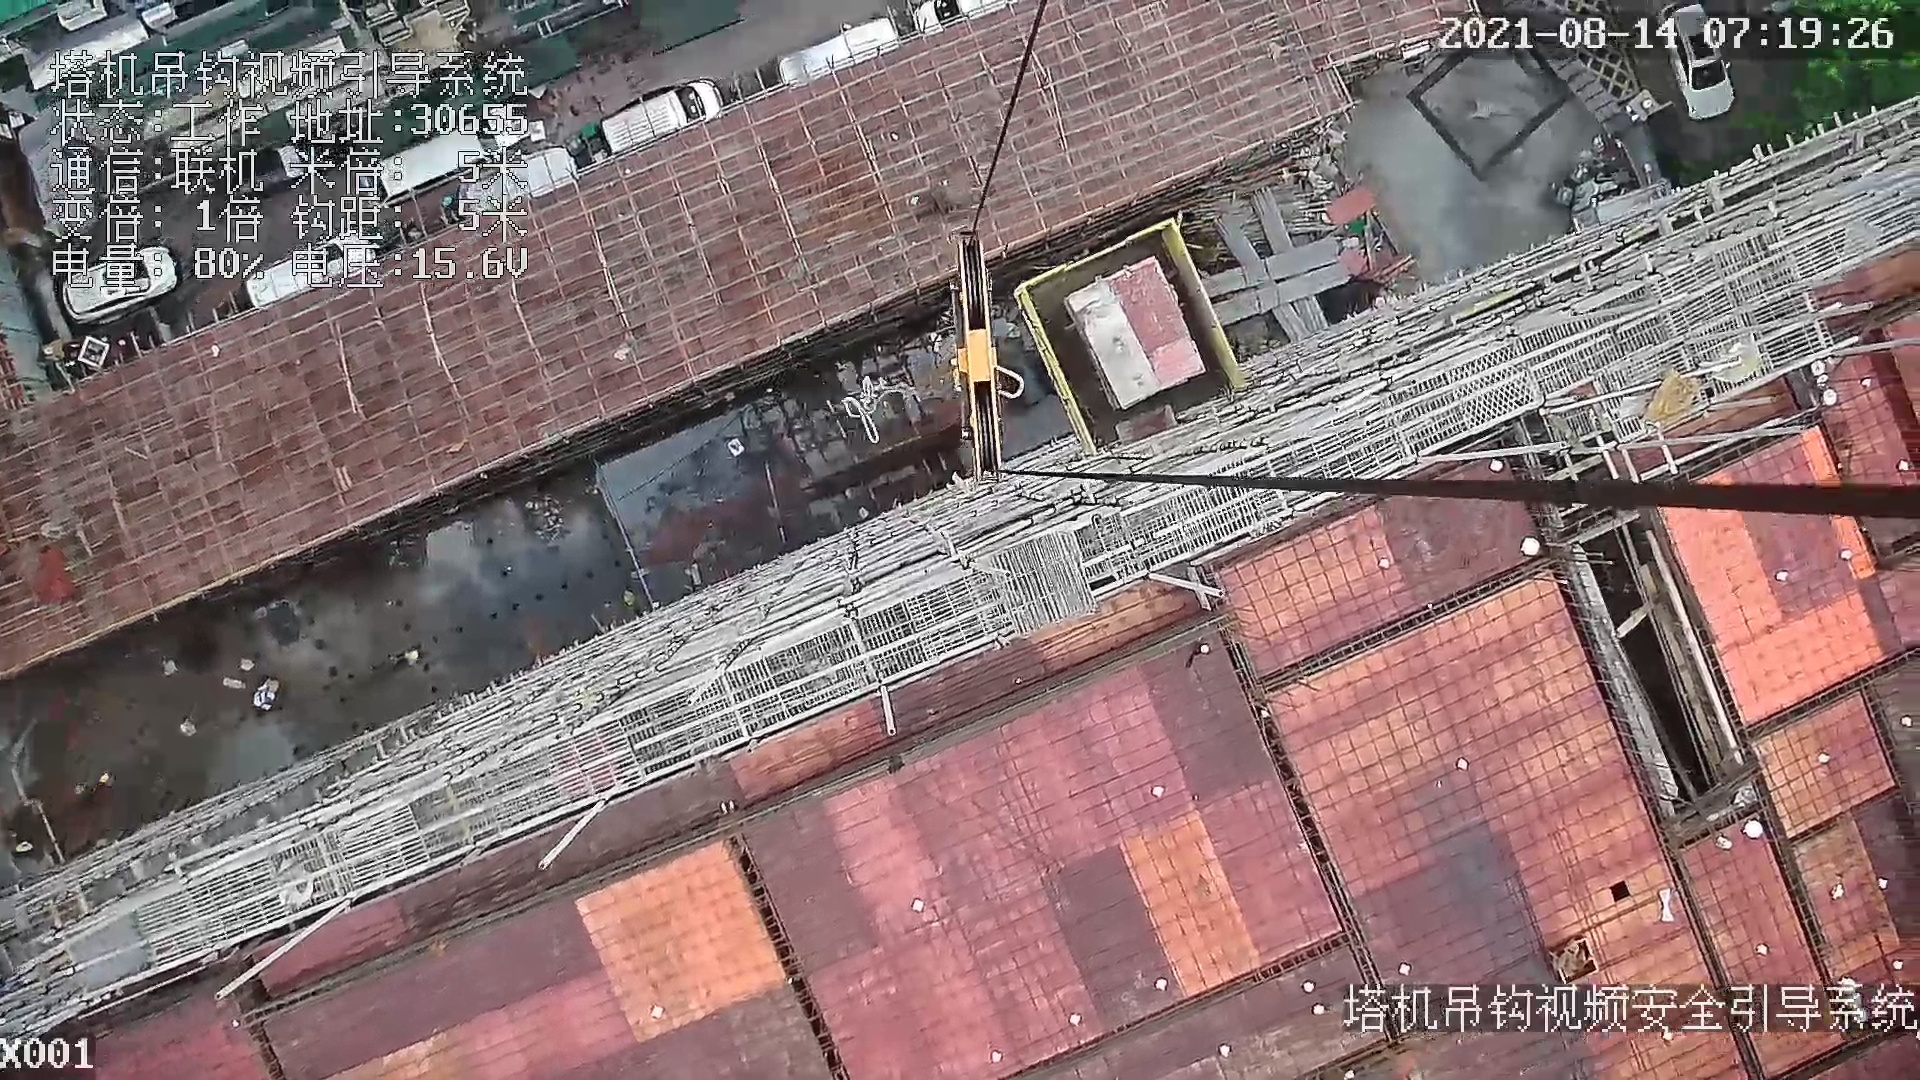hook: (945, 228, 1022, 487)
